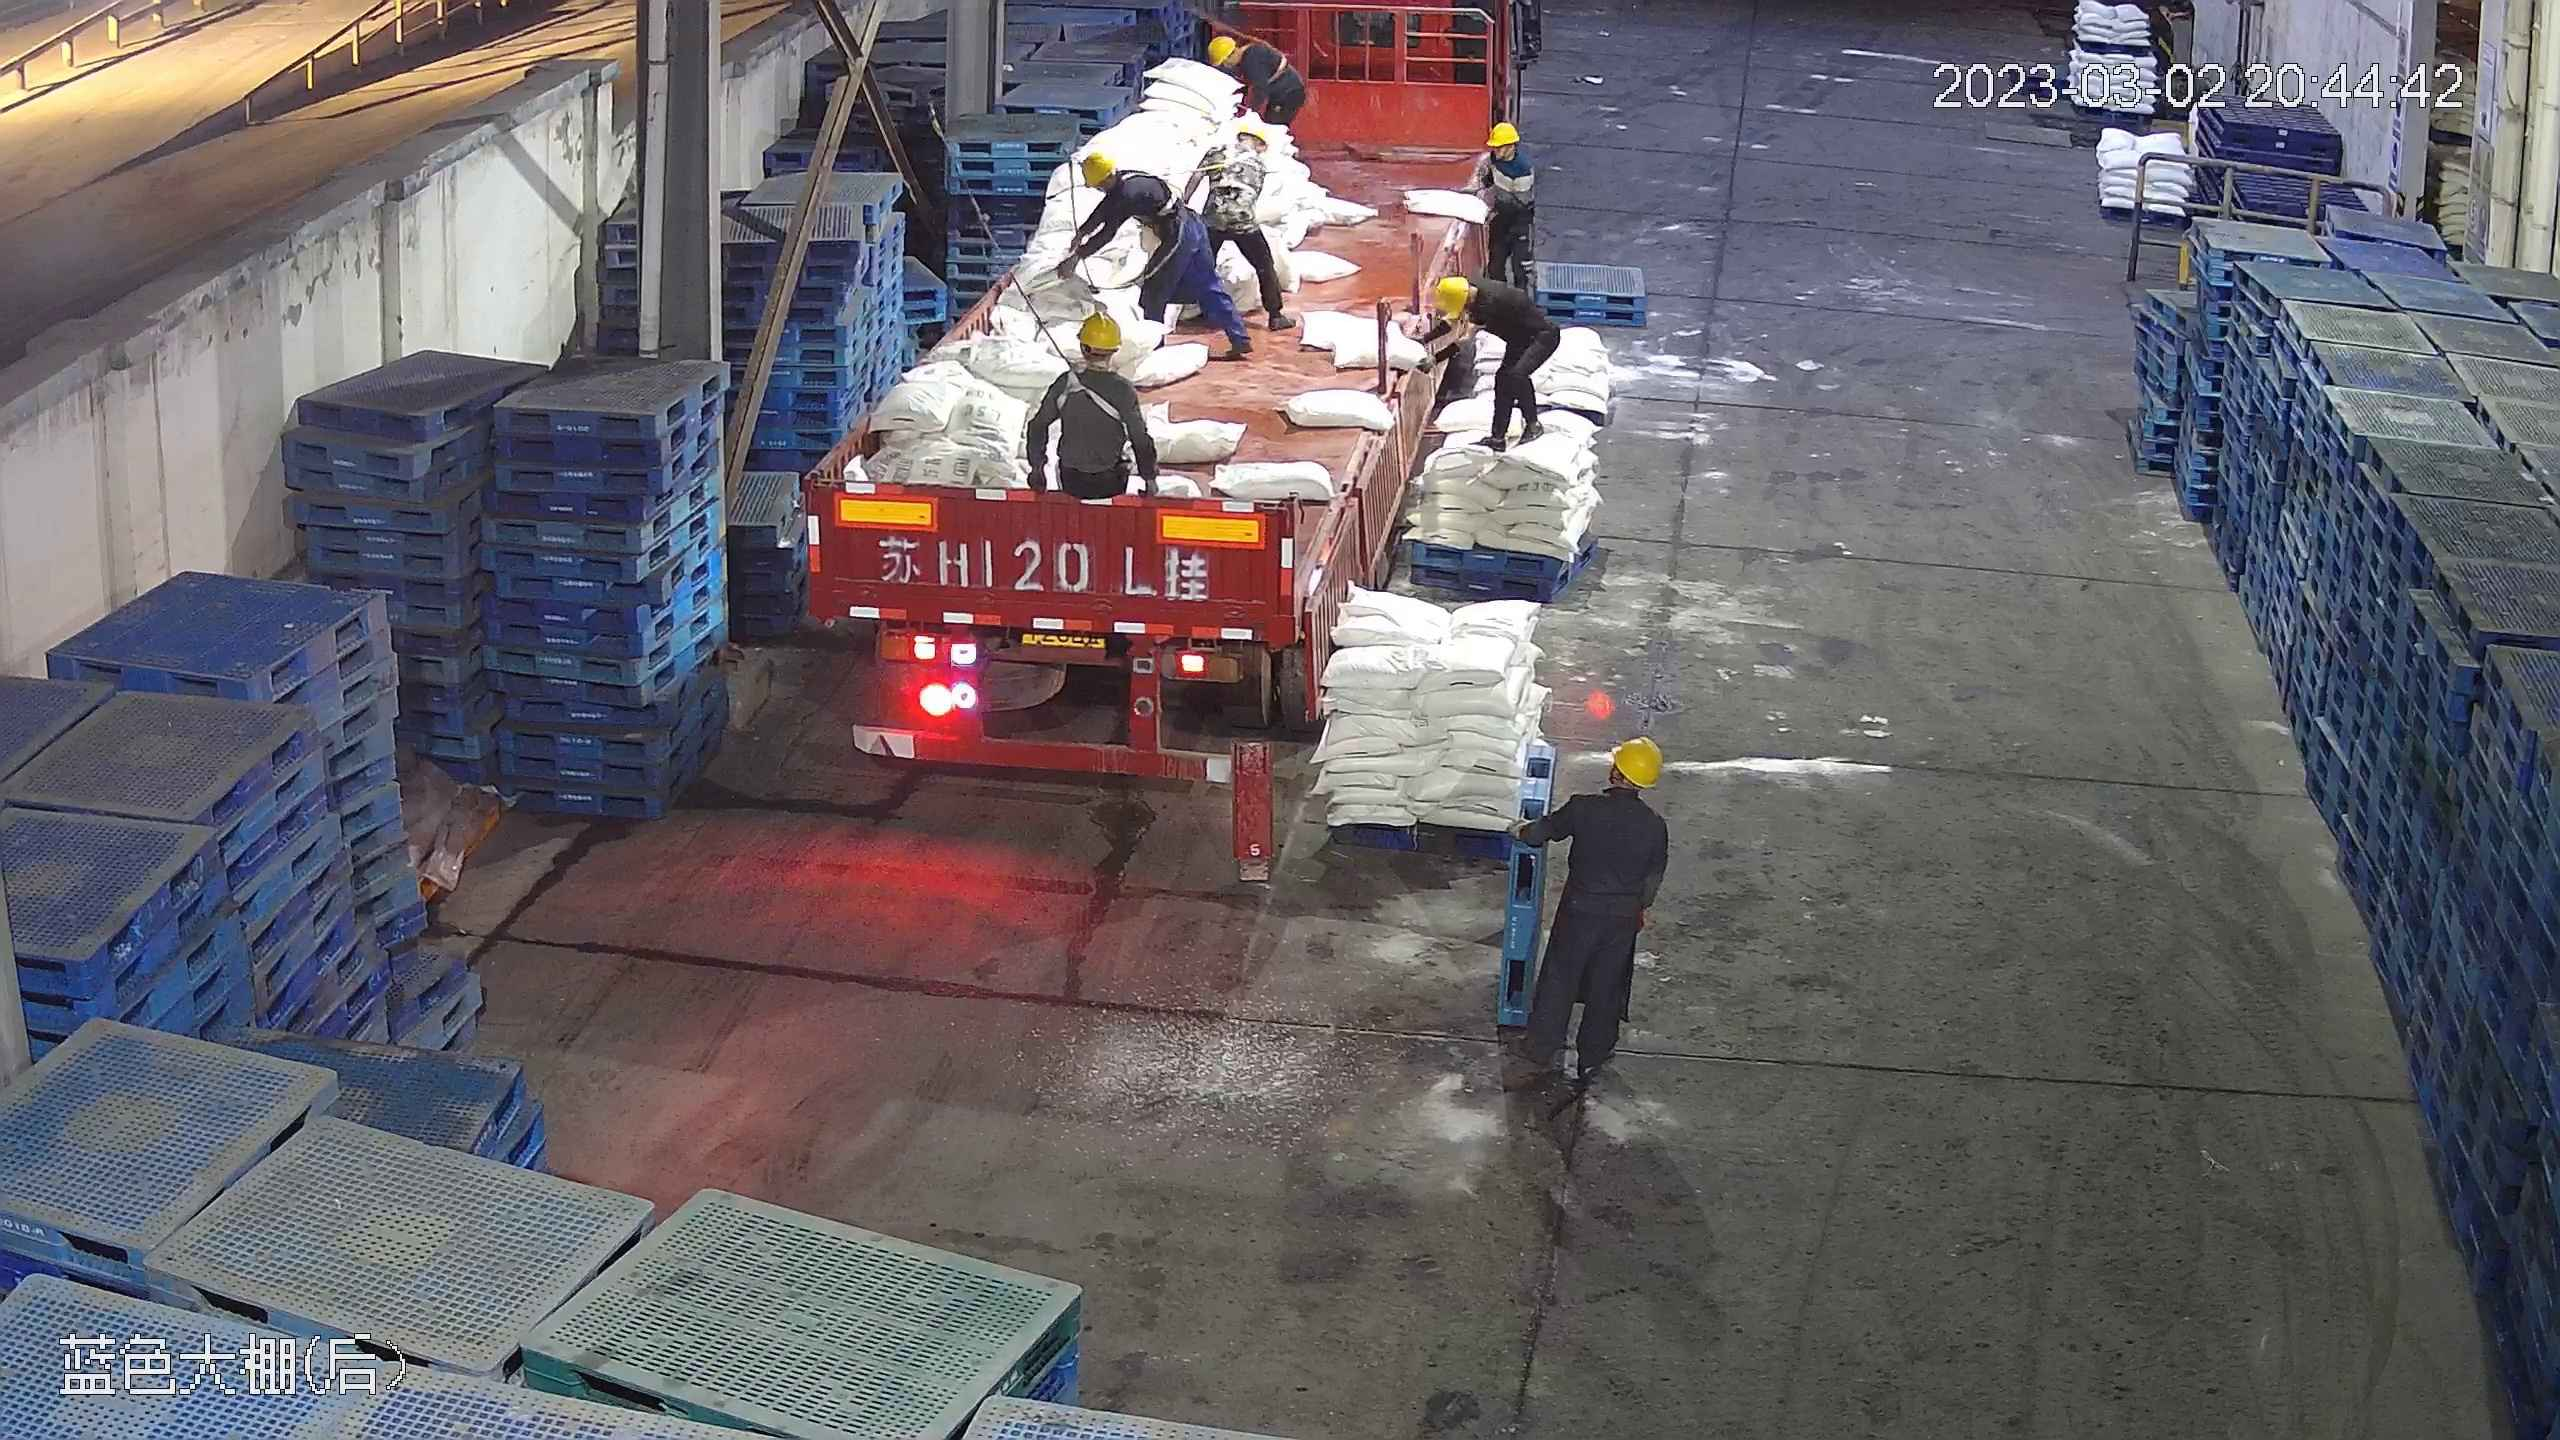belt: (1051, 355, 1124, 419), (1121, 164, 1184, 227), (1207, 142, 1259, 195), (1242, 39, 1292, 87)
head: (1551, 734, 1668, 853), (1042, 309, 1147, 409), (1431, 271, 1521, 342), (1075, 149, 1153, 217), (1197, 123, 1269, 180), (1476, 121, 1533, 189), (1208, 35, 1278, 88)
helmet: (1607, 735, 1661, 788), (1072, 309, 1125, 350), (1433, 273, 1473, 320), (1078, 148, 1117, 187), (1206, 33, 1239, 69), (1239, 121, 1269, 150), (1487, 121, 1520, 148)
people: (1513, 727, 1668, 1097), (1046, 145, 1263, 351), (1028, 298, 1160, 529), (1426, 270, 1563, 455), (1181, 124, 1299, 332), (1204, 32, 1308, 169), (1469, 119, 1538, 287)
truck: (816, 17, 1469, 792)
